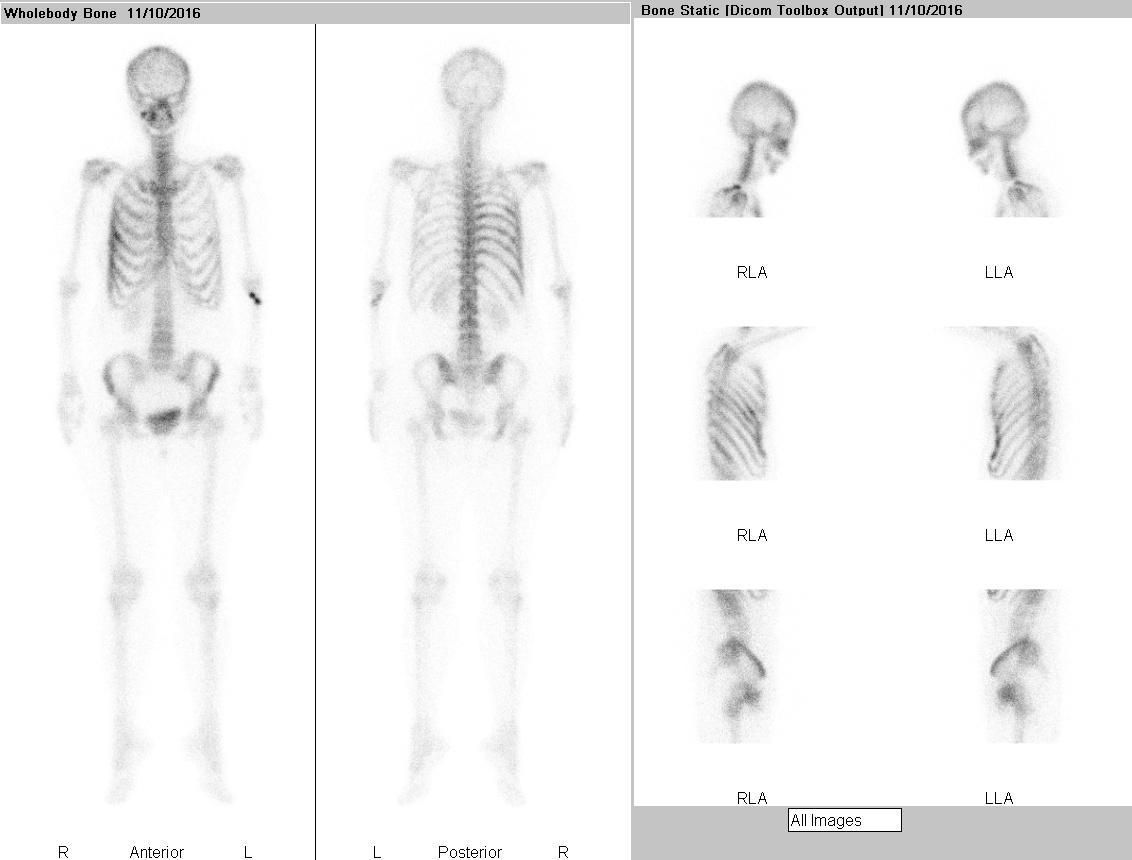person: (1, 25, 630, 860)
